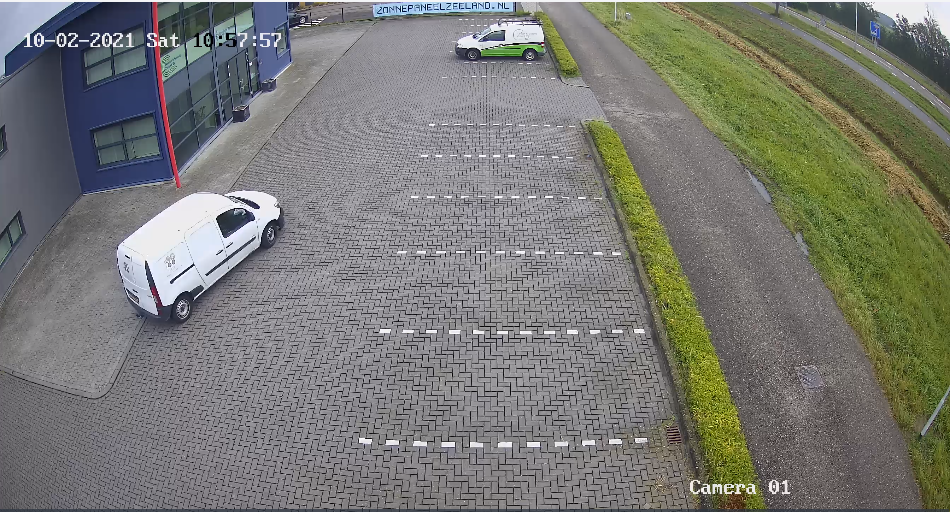werkbus: (104, 166, 296, 335), (449, 15, 553, 63)
